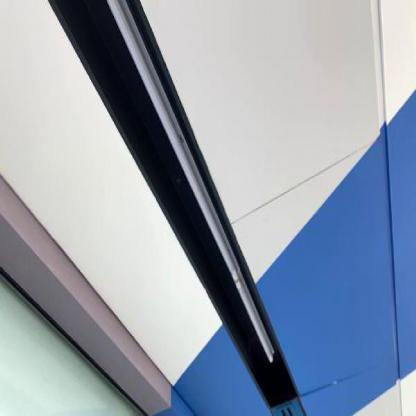light_off: (92, 0, 281, 369)
